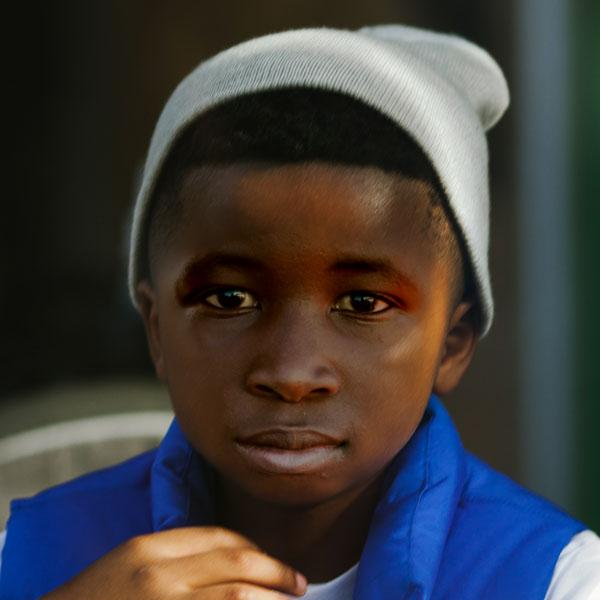Eyes: (316, 275, 405, 331), (184, 269, 265, 324)
